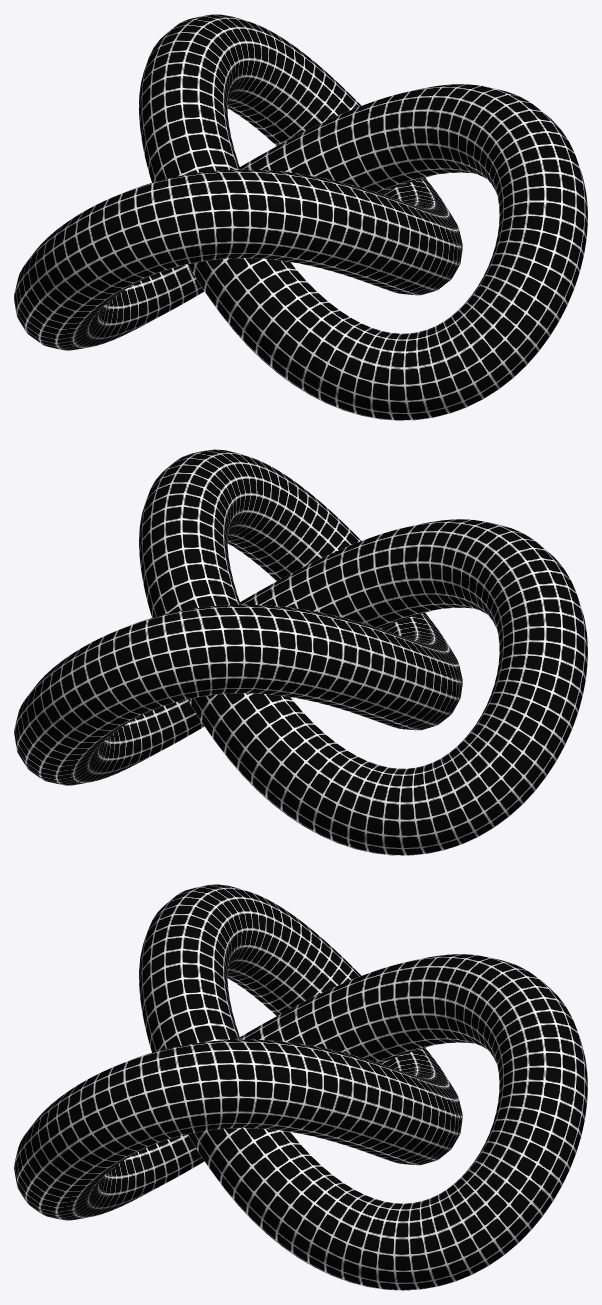
3 views of the same model, one above another, from view 1: azimuth 30°, elevation 25°; view 2: azimuth 150°, elevation 25°; view 3: azimuth 270°, elevation 25° (orthographic).
Visible parts, largest first — view 1: TorusKnot; view 2: TorusKnot; view 3: TorusKnot.
Boxes of the visible parts, left/top/right/bottom form: TorusKnot: left=14, top=14, right=587, bottom=420; TorusKnot: left=14, top=449, right=587, bottom=855; TorusKnot: left=14, top=884, right=587, bottom=1290.
Bounding box in the file's own units: 6.05 × 2.99 × 6.47.
2 materials, 2 textured.
